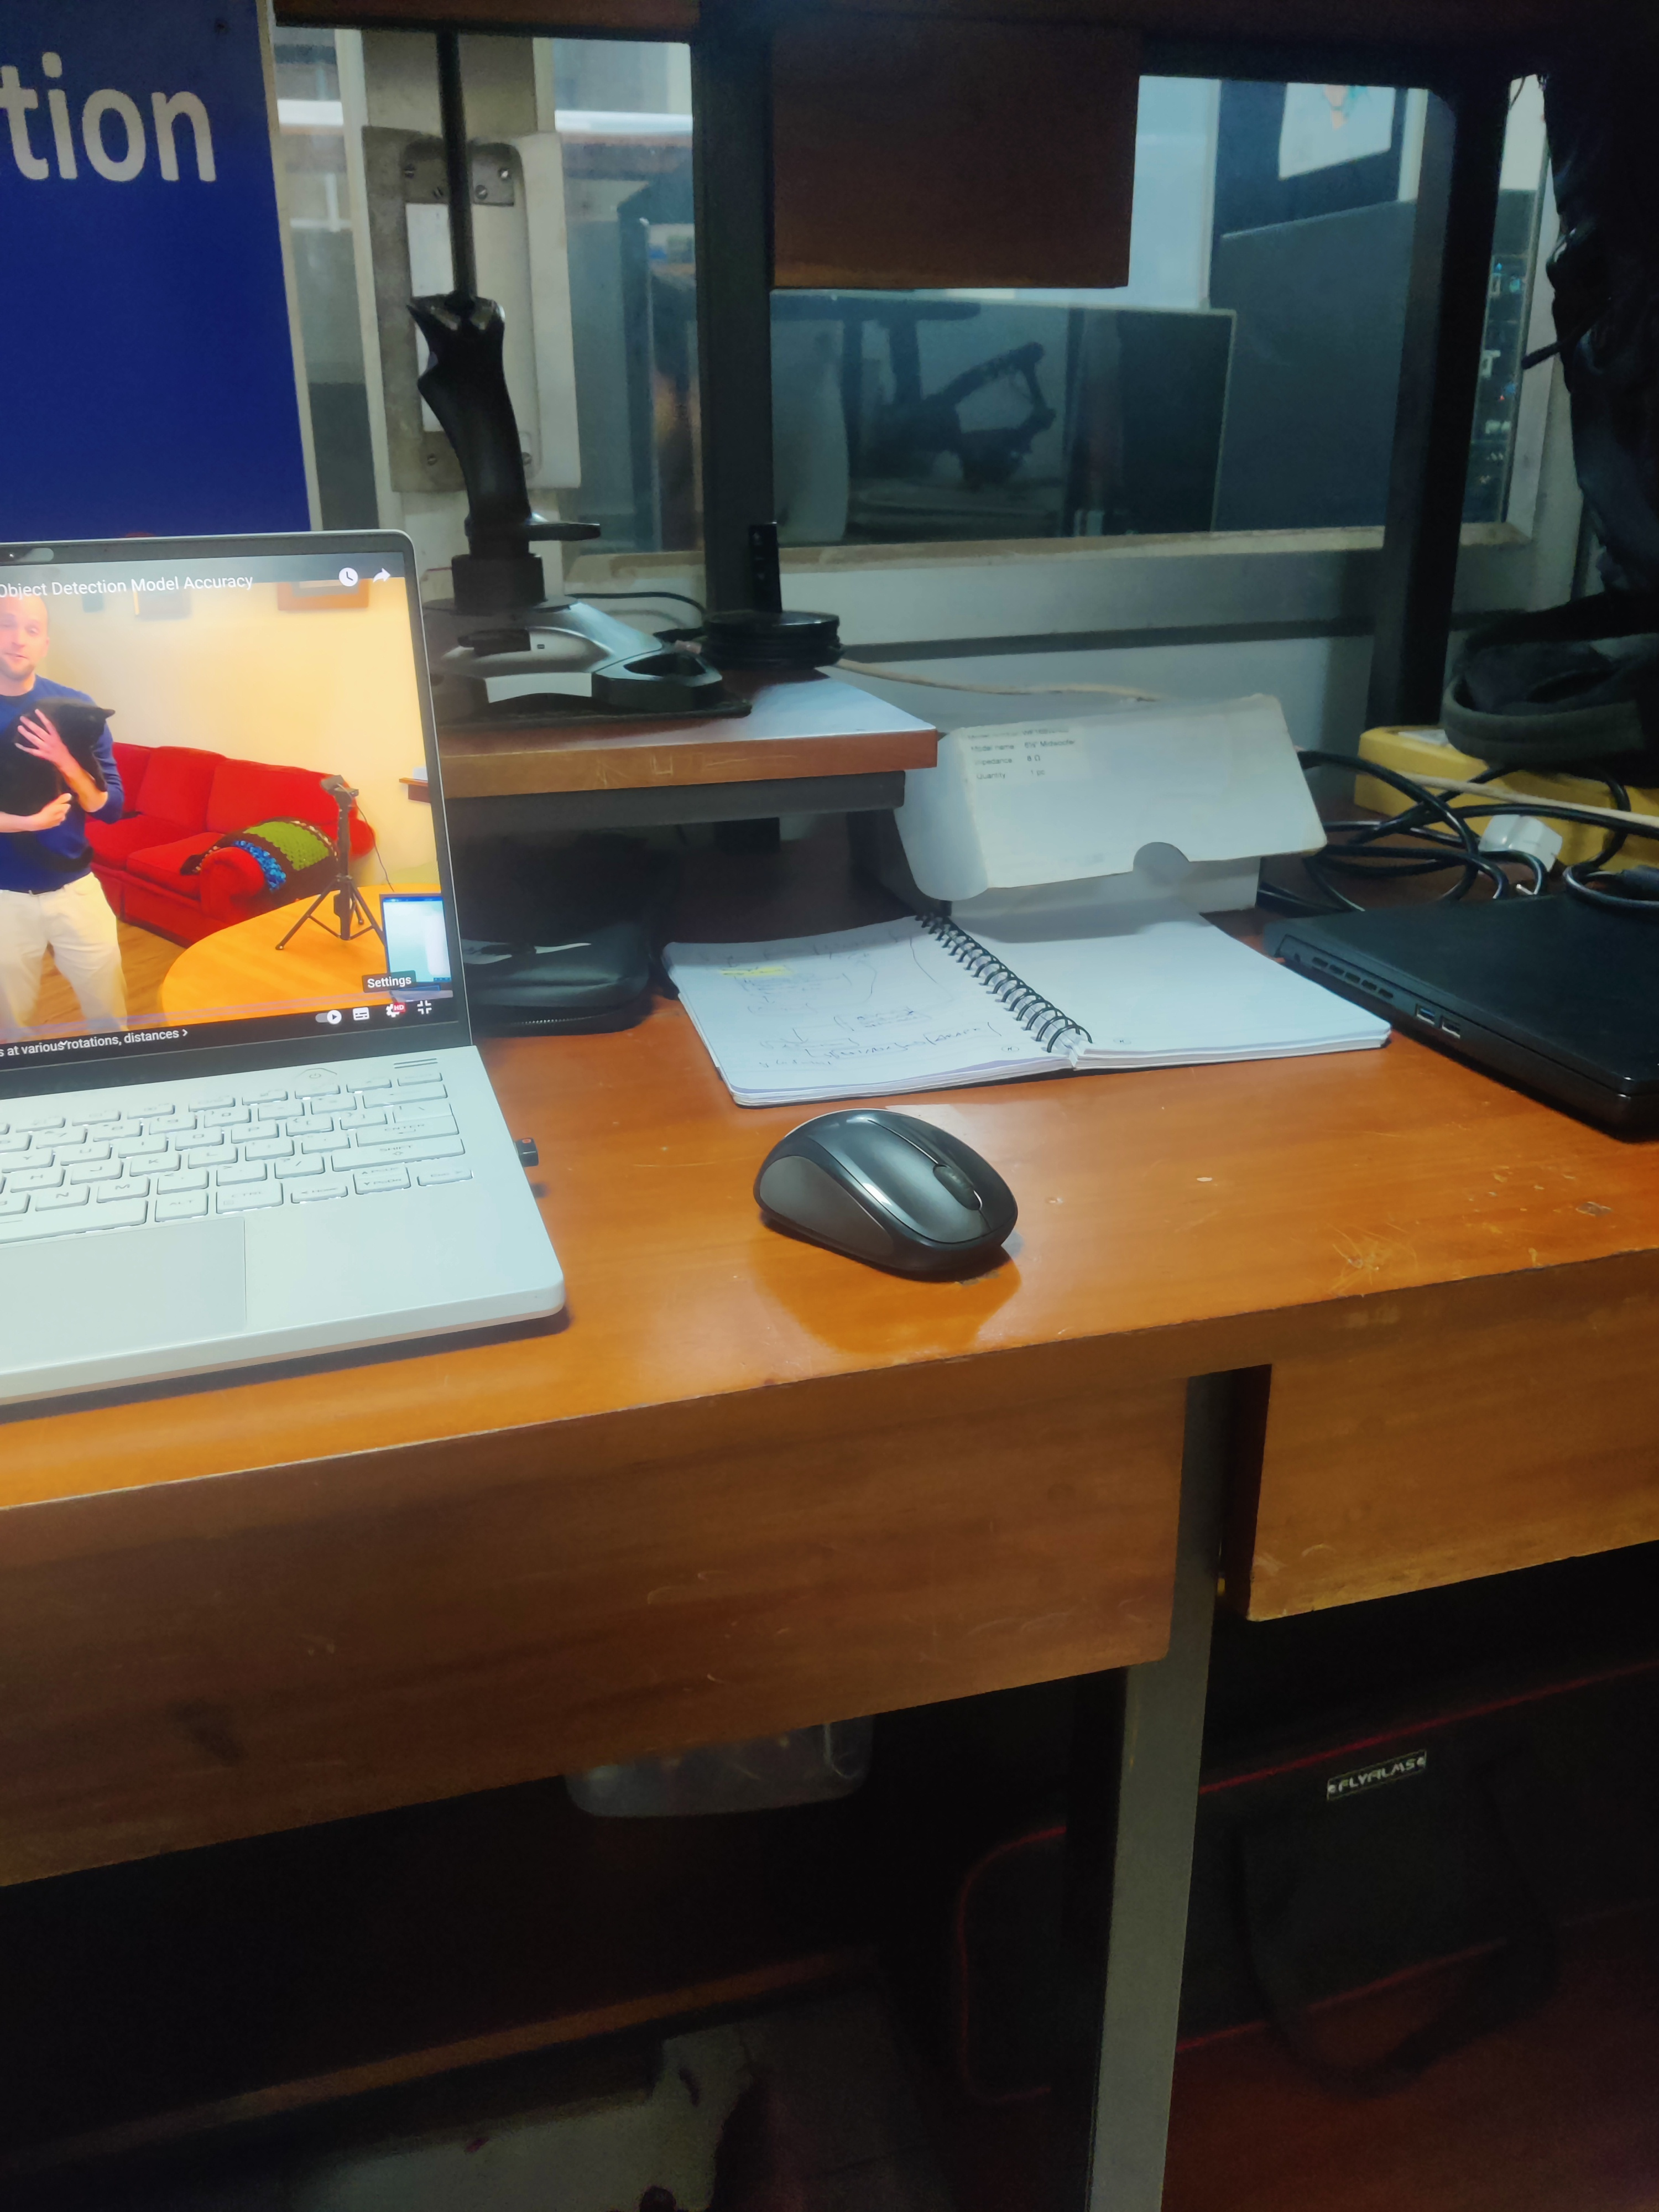logitechMouse: (749, 1103, 1026, 1287)
